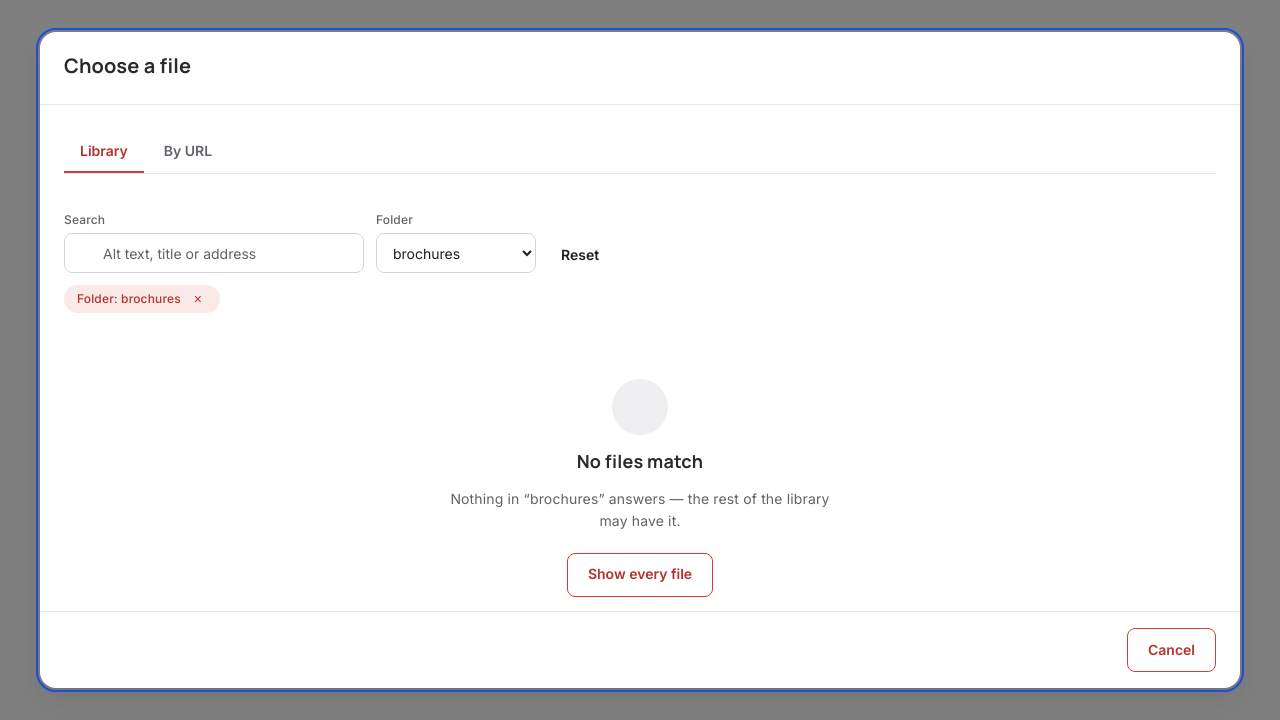
Test: an empty folder (QA-63) › says the folder is empty, and shows every file on request
Expected: the text "No files match" is shown, top-left (577, 447), bottom-right (703, 476)
Expected: the text "Nothing in “brochures” answers" is shown, top-left (450, 490), bottom-right (830, 529)
Click the button "Show every file" at [640, 575], box top-left (567, 553), bottom-right (713, 597)
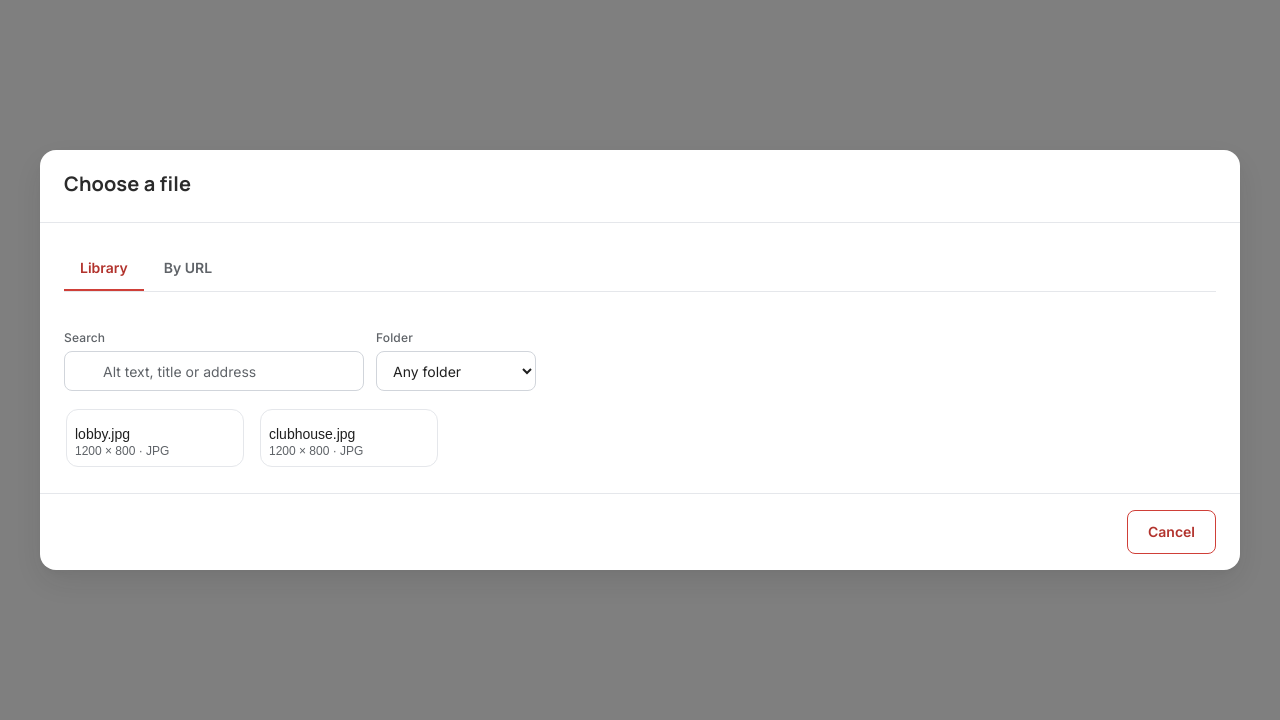
Expected: the button "lobby.jpg 1200 × 800 · JPG" is shown, top-left (66, 409), bottom-right (244, 467)
